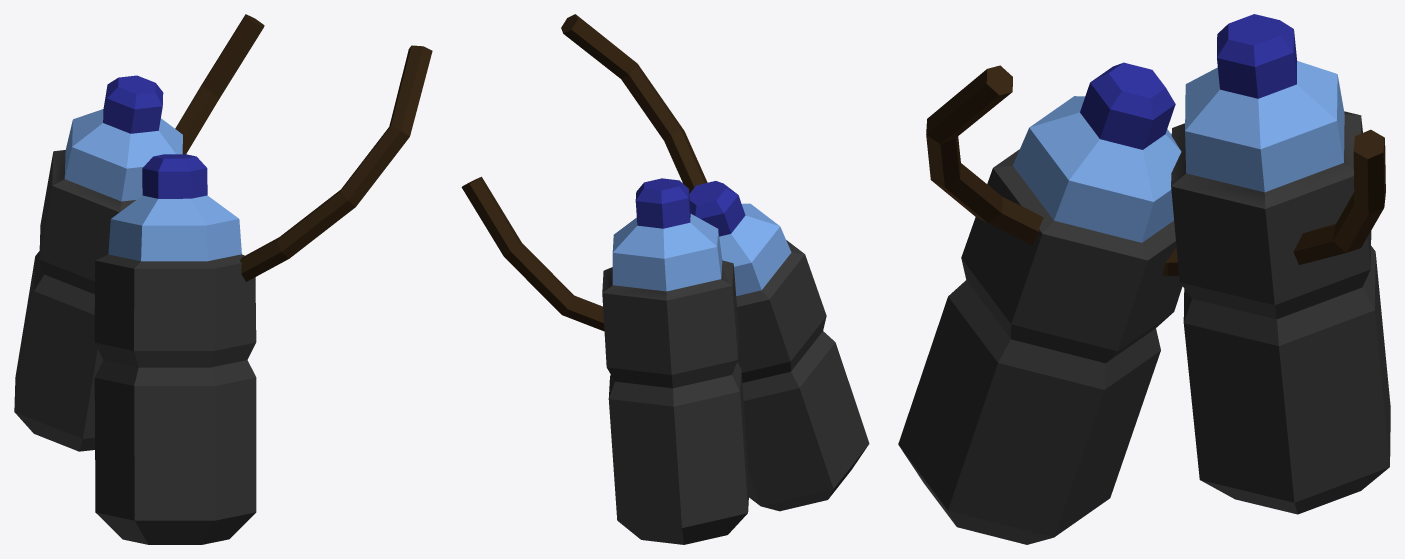
File: Bottle.fbx
3 views of the same model, side by side, from view 1: azimuth 30°, elevation 25°; view 2: azimuth 150°, elevation 25°; view 3: azimuth 270°, elevation 25° (orthographic). The views are drawn at different scales.
Visible parts, largest first — view 1: Bottle Holder, Bottle; view 2: Bottle Holder, Bottle; view 3: Bottle Holder, Bottle.
Boxes of the visible parts, x1,y1,x2,y2 form: Bottle Holder: [14, 14, 432, 544]; Bottle: [64, 75, 182, 201]; Bottle Holder: [461, 14, 869, 544]; Bottle: [612, 178, 722, 291]; Bottle Holder: [898, 62, 1390, 544]; Bottle: [1185, 14, 1344, 192].
Bounding box in the file's own units: 0.2415 × 0.2411 × 0.3316.
